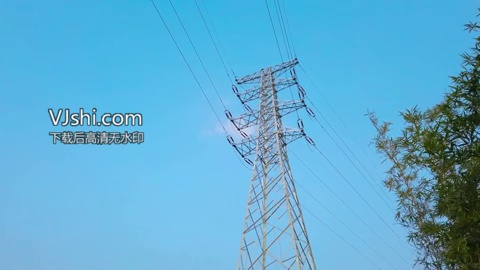tower_body: (219, 52, 323, 270)
tower_foot: (236, 213, 318, 270)
tower_head: (224, 55, 307, 101)
